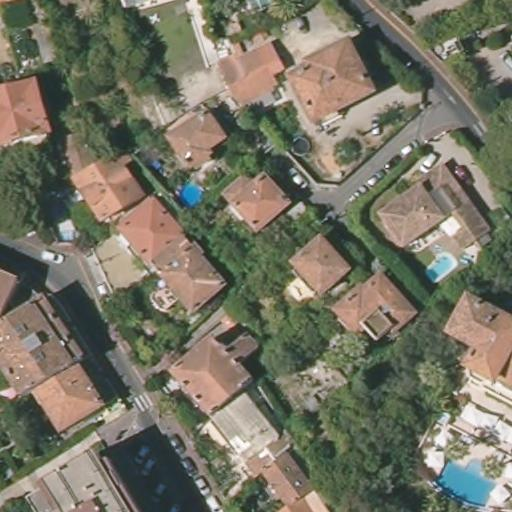pool: (432, 452, 498, 502), (423, 251, 456, 285), (177, 181, 205, 210), (55, 228, 80, 242)
